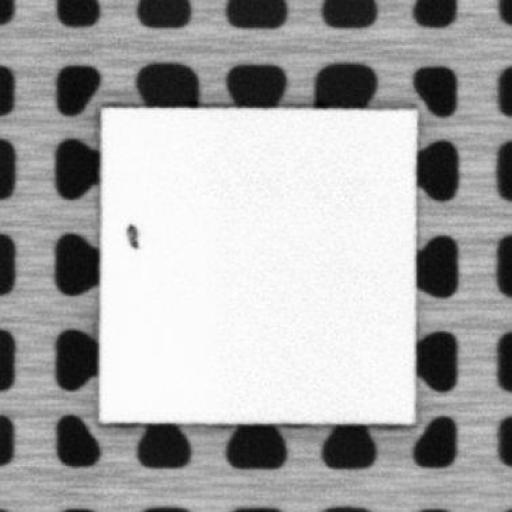DIE_INK: (120, 219, 141, 247)
